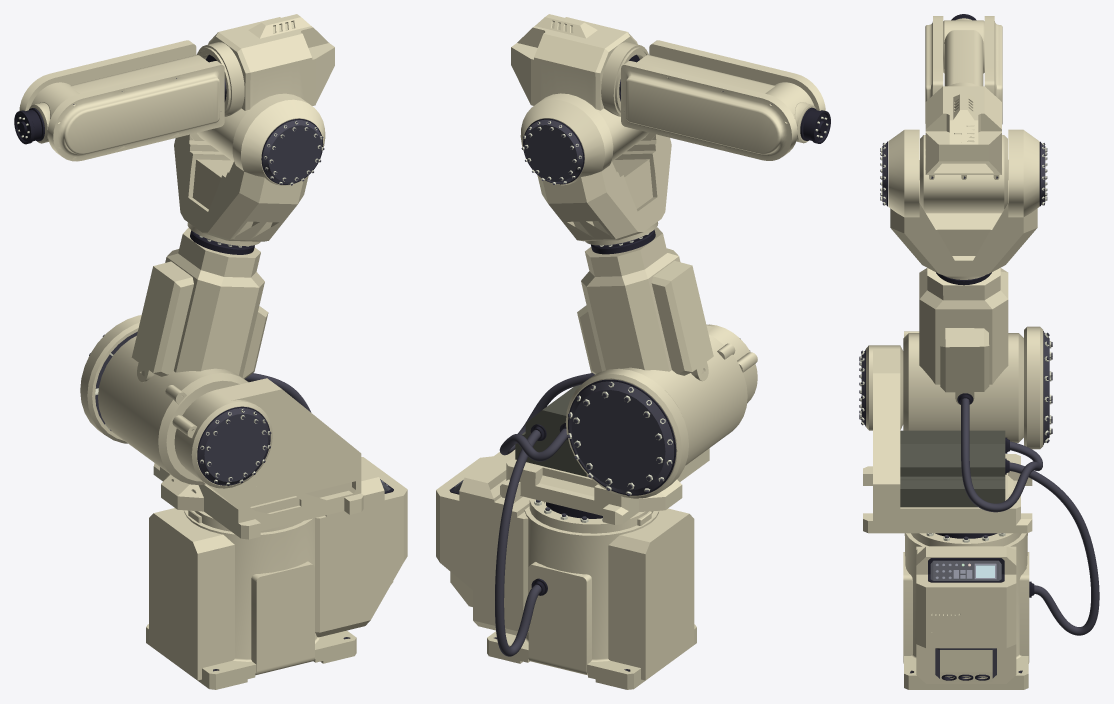
Rendered from arm.glb.
3 views of the same model, side by side, from view 1: azimuth 30°, elevation 25°; view 2: azimuth 150°, elevation 25°; view 3: azimuth 270°, elevation 25° (orthographic). The views are drawn at different scales.
Parts seen in each view (by area): view 1: base:Material.001, forearm:Material, upperarm:Material, turret:Material, upperarm:Material.001, upperarm:Material.002, base:Material, upperarm:Material.004, forearm:Material.001, forearm:Material.004, base:Material.002, turret:Material.001 (+3 smaller); view 2: base:Material.001, forearm:Material, upperarm:Material, upperarm:Material.004, upperarm:Material.001, base:Material, upperarm:Material.002, turret:Material, forearm:Material.001, base:Material.004, forearm:Material.004, turret:Material.011 (+6 smaller); view 3: upperarm:Material, forearm:Material, base:Material.001, upperarm:Material.001, turret:Material, turret:Material.011, forearm:Material.001, base:Material, upperarm:Material.002, base:Material.004, turret:Material.004, base:Material.002 (+8 smaller).
Part boxes in pixels (x1,y1,x2,y2): base:Material.001: (149,457,407,680); forearm:Material: (19,14,334,185); upperarm:Material: (80,134,308,488); turret:Material: (153,378,363,539); upperarm:Material.001: (98,135,278,484); upperarm:Material.002: (131,261,268,382); base:Material: (184,510,393,661); upperarm:Material.004: (89,238,271,485); forearm:Material.001: (70,42,248,161); forearm:Material.004: (73,78,324,185); base:Material.002: (146,624,356,689); turret:Material.001: (250,481,355,513); base:Material.001: (436,449,694,680); forearm:Material: (511,14,825,185); upperarm:Material: (537,134,757,498); upperarm:Material.004: (567,237,749,496); upperarm:Material.001: (567,135,747,465); base:Material: (450,498,658,661); upperarm:Material.002: (577,261,713,381); turret:Material: (500,325,714,524); forearm:Material.001: (597,42,774,161); base:Material.004: (494,430,630,671); forearm:Material.004: (521,78,772,184); turret:Material.011: (515,384,586,476); upperarm:Material: (866,160,1043,449); forearm:Material: (888,16,1039,217); base:Material.001: (903,546,1029,683); upperarm:Material.001: (903,180,1023,442); turret:Material: (863,349,1032,533); turret:Material.011: (900,430,1005,507); forearm:Material.001: (920,30,1007,213); base:Material: (904,533,1027,681); upperarm:Material.002: (940,328,989,404); base:Material.004: (910,462,1099,678); turret:Material.004: (961,398,1042,512); base:Material.002: (904,613,1028,689).
Bounding box in the file's own units: 0.9826 × 1.6 × 0.6132.
